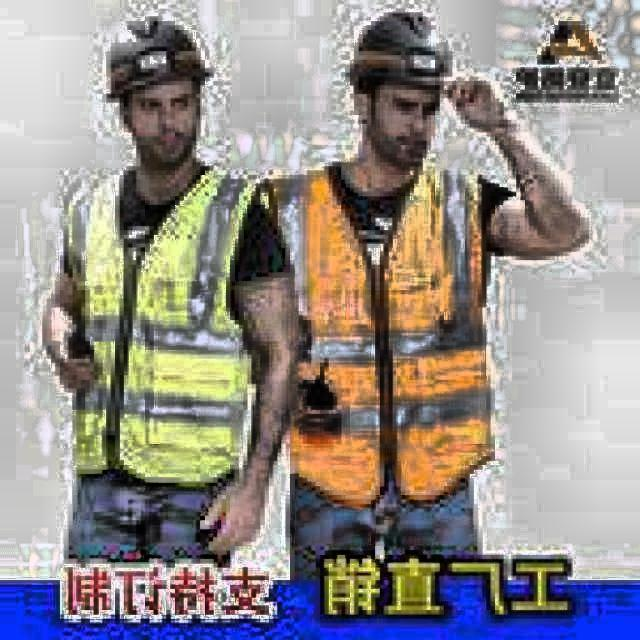safety_jacket: (279, 187, 486, 474), (70, 178, 240, 480)
